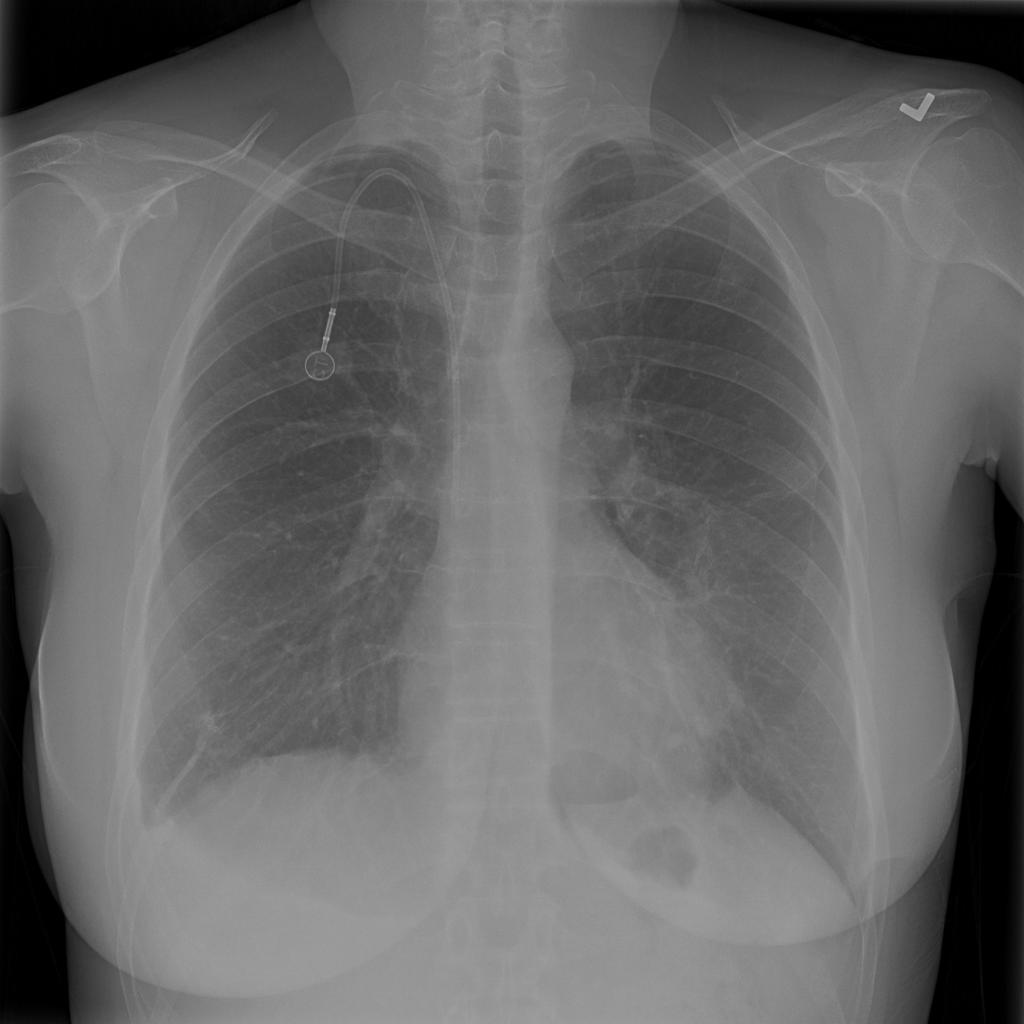nodule: (645, 706, 714, 788)
